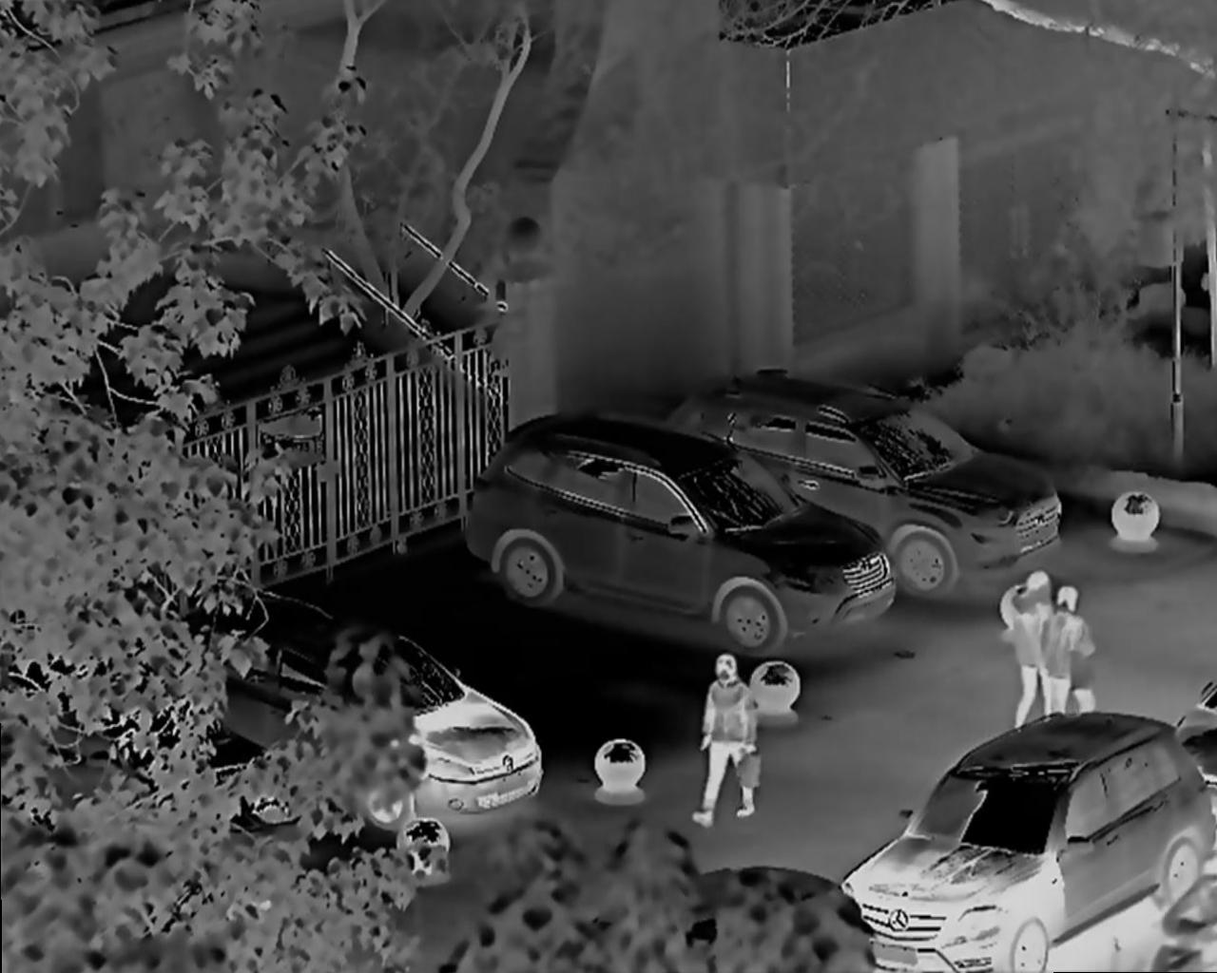person: (700, 649, 774, 824), (1051, 580, 1111, 714), (1000, 566, 1045, 728)
